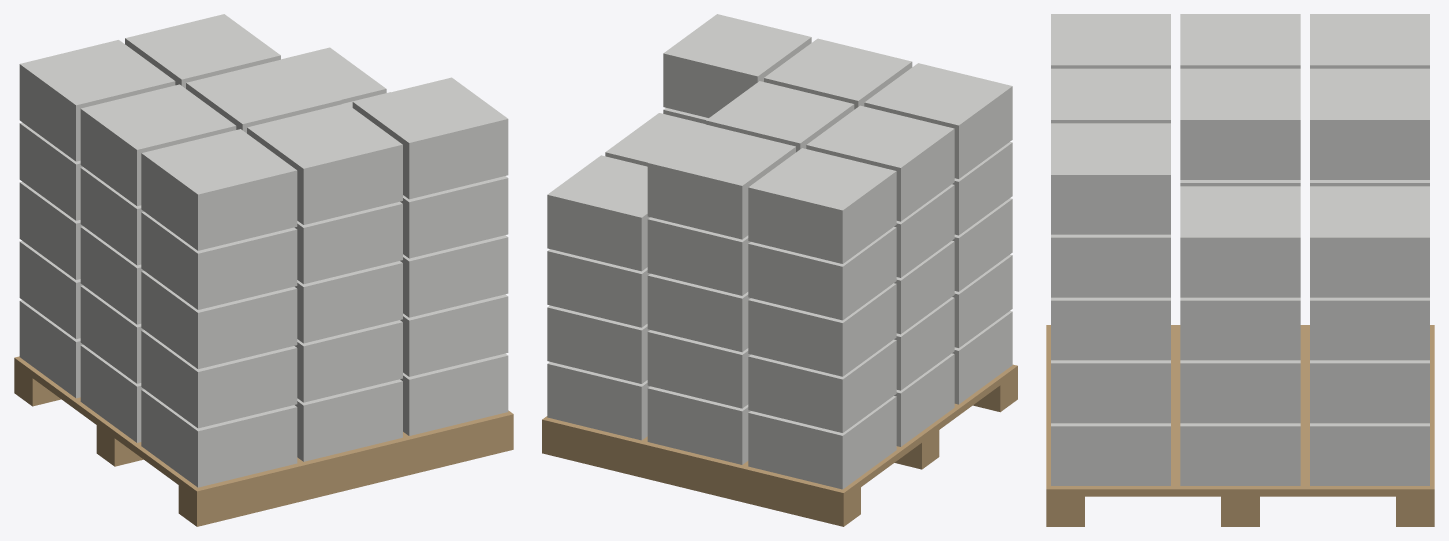
The model's file is pallet_mp_43.glb.
3 views of the same model, side by side, from view 1: azimuth 30°, elevation 25°; view 2: azimuth 150°, elevation 25°; view 3: azimuth 270°, elevation 25° (orthographic). The views are drawn at different scales.
Parts seen in each view (by area): view 1: PalletMP; view 2: PalletMP; view 3: PalletMP.
Boxes of the visible parts, <box> form: PalletMP: <box>14,14,513,526</box>; PalletMP: <box>542,14,1017,526</box>; PalletMP: <box>1046,14,1434,526</box>.
Size of the model in its own units: 1 by 0.9957 by 1.
